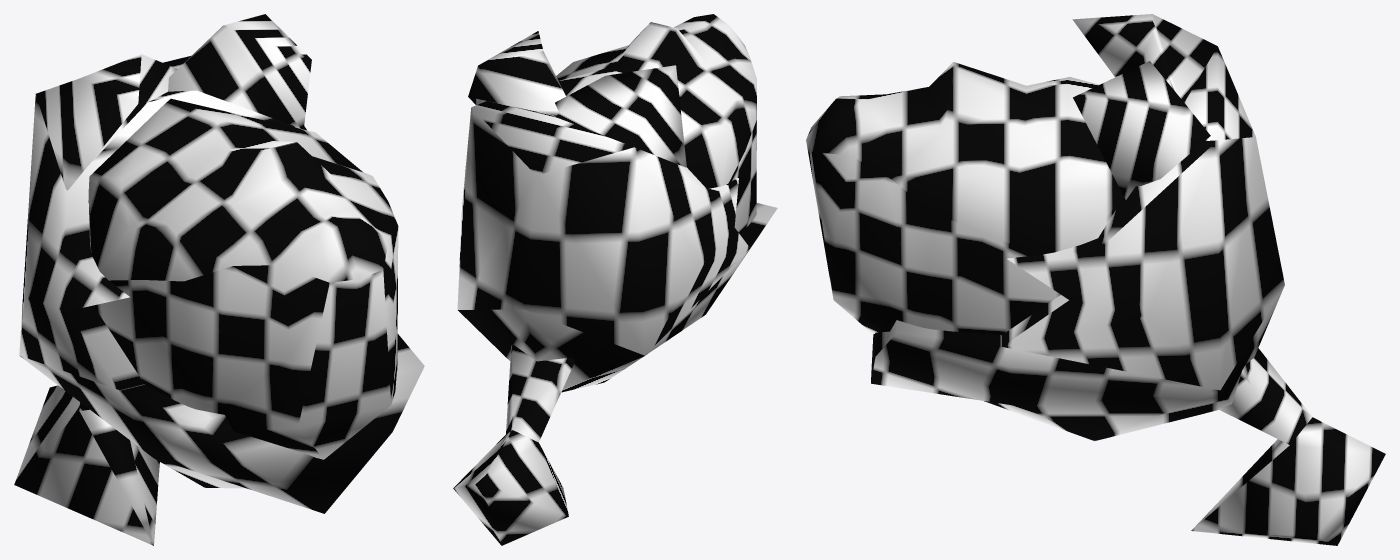
File: infaunhufeme4.dae
The picture shows the model from 3 angles, left to right: view 1: azimuth 30°, elevation 25°; view 2: azimuth 150°, elevation 25°; view 3: azimuth 270°, elevation 25°; orthographic projection. The views are drawn at different scales.
Parts seen in each view (by area): view 1: face; view 2: face; view 3: face.
Boxes of the visible parts, bbox=[...] form: face: bbox=[14, 14, 424, 545]; face: bbox=[453, 14, 777, 545]; face: bbox=[806, 14, 1385, 545].
Bounding box in the file's own units: 1.04 × 1.84 × 1.77.
Materials: 1 (1 with a texture image).
